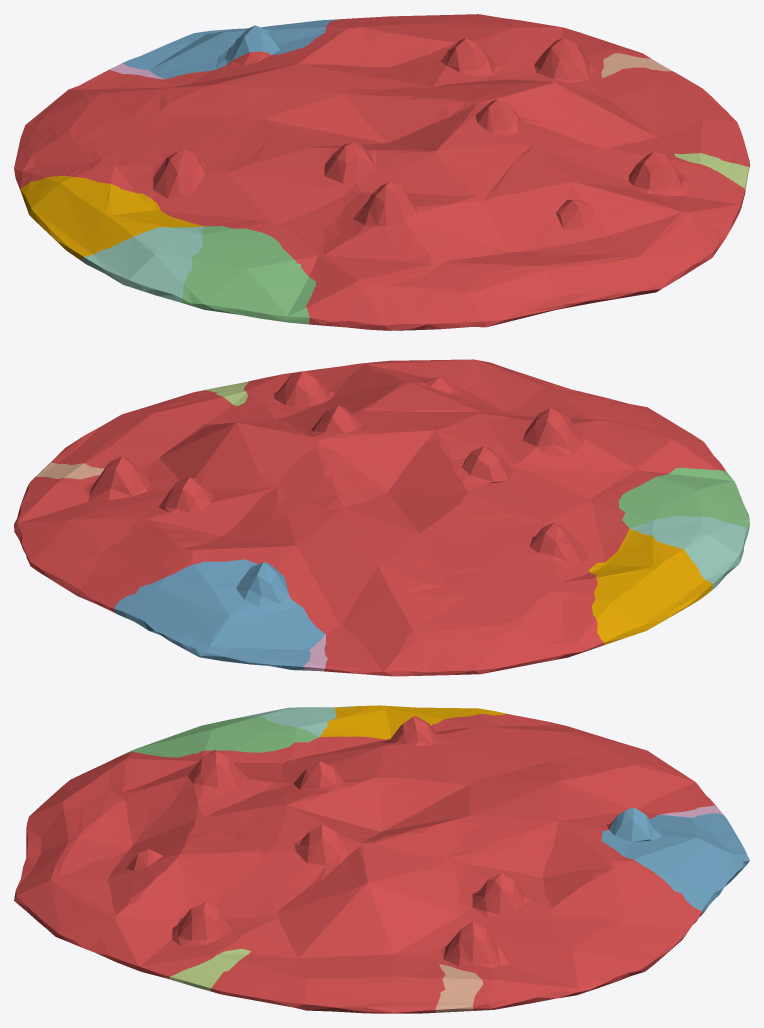
File: fractured_79_8pcs.glb
The picture shows the model from 3 angles, top to bottom: view 1: azimuth 30°, elevation 25°; view 2: azimuth 150°, elevation 25°; view 3: azimuth 270°, elevation 25°; orthographic projection. The views are drawn at different scales.
Visible parts, largest first — view 1: piece_1.obj, piece_3.obj, piece_0.obj, piece_2.obj, piece_4.obj, piece_5.obj, piece_7.obj; view 2: piece_1.obj, piece_2.obj, piece_0.obj, piece_3.obj, piece_4.obj, piece_7.obj, piece_5.obj; view 3: piece_1.obj, piece_2.obj, piece_3.obj, piece_0.obj, piece_7.obj, piece_4.obj, piece_5.obj.
Boxes of the visible parts, left/top/right/bottom form: piece_1.obj: left=14, top=14, right=749, bottom=330; piece_3.obj: left=181, top=226, right=316, bottom=324; piece_0.obj: left=20, top=176, right=203, bottom=260; piece_2.obj: left=122, top=19, right=338, bottom=79; piece_4.obj: left=81, top=226, right=204, bottom=302; piece_5.obj: left=674, top=153, right=748, bottom=191; piece_7.obj: left=601, top=53, right=672, bottom=78; piece_1.obj: left=14, top=359, right=725, bottom=676; piece_2.obj: left=114, top=559, right=325, bottom=670; piece_0.obj: left=589, top=528, right=712, bottom=644; piece_3.obj: left=618, top=467, right=749, bottom=530; piece_4.obj: left=630, top=515, right=748, bottom=589; piece_7.obj: left=35, top=462, right=104, bottom=479; piece_5.obj: left=204, top=381, right=248, bottom=406; piece_1.obj: left=14, top=714, right=716, bottom=1013; piece_2.obj: left=601, top=807, right=749, bottom=914; piece_3.obj: left=123, top=716, right=318, bottom=757; piece_0.obj: left=320, top=705, right=506, bottom=739; piece_7.obj: left=434, top=964, right=483, bottom=1012; piece_4.obj: left=238, top=706, right=353, bottom=736; piece_5.obj: left=169, top=948, right=250, bottom=991.
Bounding box in the file's own units: 0.9812 × 0.1667 × 1.
